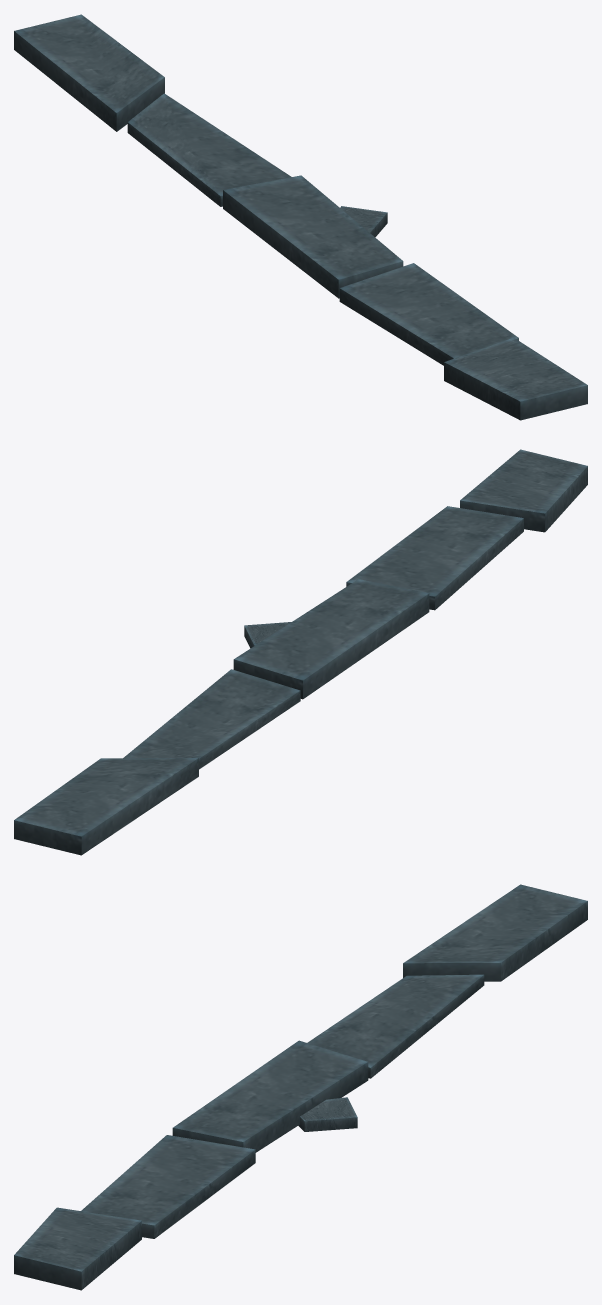
Rendered from FB_Dixiashuidao_Dibiao01.FBX.
3 renders of one model, top to bottom at view 1: azimuth 30°, elevation 25°; view 2: azimuth 150°, elevation 25°; view 3: azimuth 330°, elevation 25°, orthographic.
Visible parts, largest first — view 1: Object05, Object60, Object62, Object59, Object63, Object58; view 2: Object05, Object60, Object62, Object59, Object63, Object58; view 3: Object05, Object60, Object62, Object59, Object63, Object58.
Part boxes in pixels (x1=…): Object05: x1=223, y1=175, x2=403, y2=298; Object60: x1=14, y1=14, x2=164, y2=131; Object62: x1=339, y1=263, x2=518, y2=365; Object59: x1=127, y1=93, x2=291, y2=206; Object63: x1=444, y1=337, x2=587, y2=420; Object58: x1=340, y1=206, x2=387, y2=237; Object05: x1=233, y1=579, x2=429, y2=699; Object60: x1=14, y1=758, x2=198, y2=855; Object62: x1=346, y1=506, x2=523, y2=610; Object59: x1=123, y1=669, x2=300, y2=769; Object63: x1=460, y1=449, x2=587, y2=532; Object58: x1=244, y1=622, x2=291, y2=648; Object05: x1=172, y1=1040, x2=368, y2=1152; Object60: x1=403, y1=884, x2=587, y2=981; Object62: x1=81, y1=1135, x2=255, y2=1238; Object59: x1=307, y1=974, x2=484, y2=1078; Object63: x1=14, y1=1207, x2=141, y2=1290; Object58: x1=298, y1=1097, x2=357, y2=1131.
Size of the model in its own units: 1.39 by 0.2348 by 9.98.
